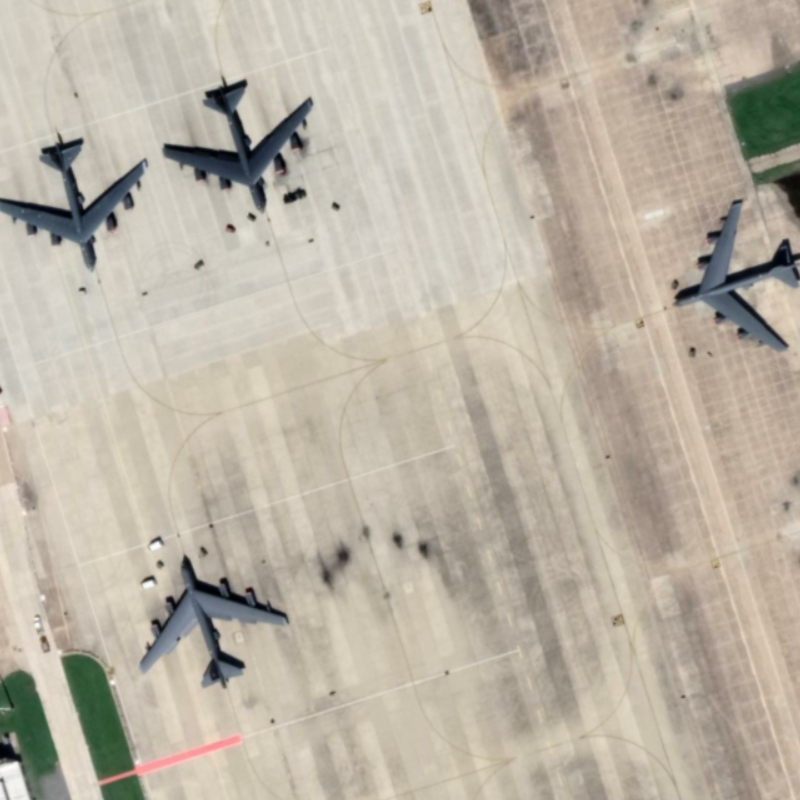A8: (157, 70, 323, 218), (133, 543, 295, 694), (663, 192, 800, 357), (4, 128, 154, 276)
